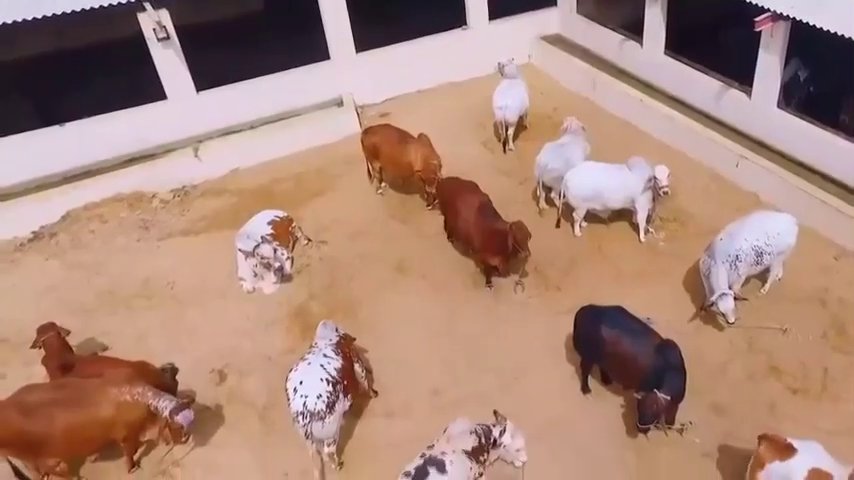bo: (557, 284, 687, 441), (5, 372, 204, 471), (697, 201, 804, 336), (427, 165, 533, 298), (277, 312, 371, 460), (15, 308, 169, 395), (554, 151, 674, 248), (384, 408, 540, 480), (354, 114, 438, 202), (222, 201, 303, 292), (530, 108, 594, 218), (476, 51, 534, 153), (744, 428, 849, 480)
